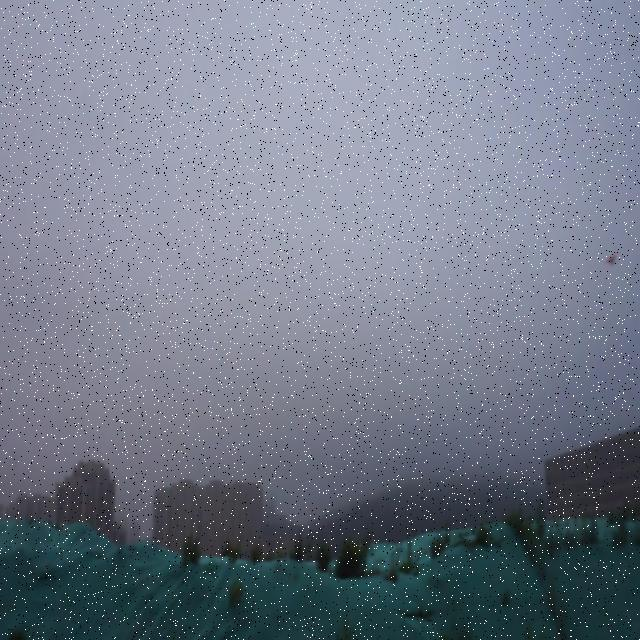UAV: (605, 252, 619, 266)
